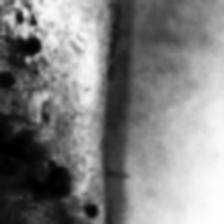Unclassified: (15, 31, 56, 53), (42, 93, 70, 121), (0, 64, 31, 84), (89, 192, 101, 224)
